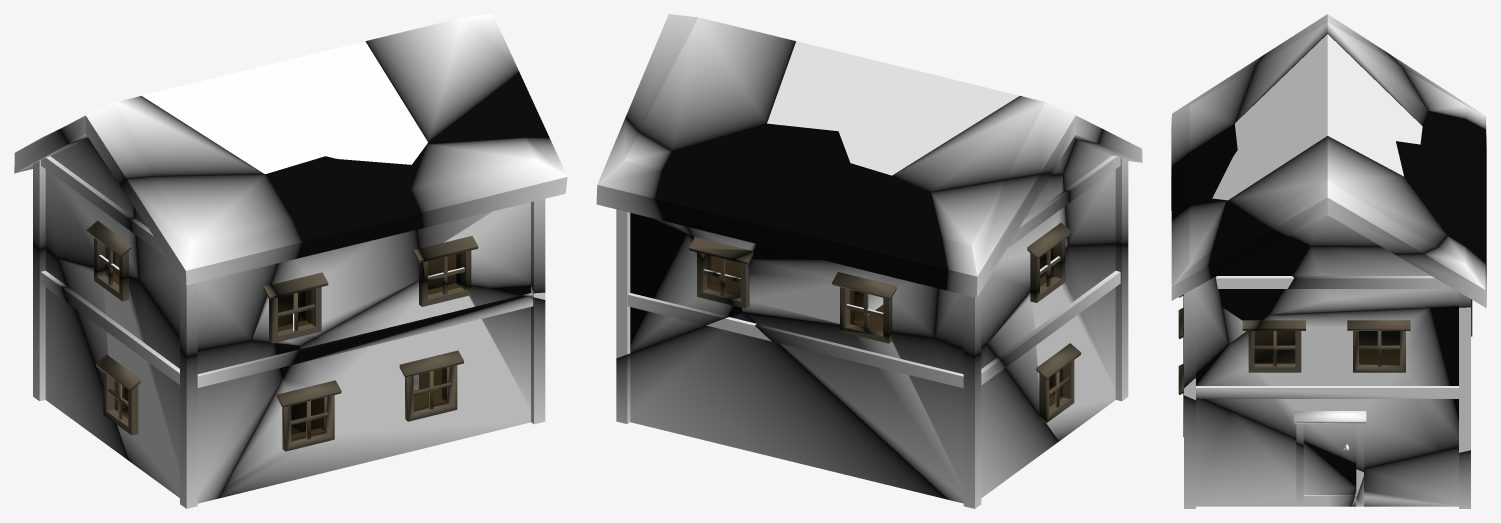
The model's file is Village_Apartment_Small_1_D.fbx.
The picture shows the model from 3 angles, left to right: view 1: azimuth 30°, elevation 25°; view 2: azimuth 150°, elevation 25°; view 3: azimuth 270°, elevation 25°; orthographic projection. The views are drawn at different scales.
Visible parts, largest first — view 1: Village_Apartment_Small_1_fracturepart10_4, Village_Apartment_Small_1_fracturepart13_2, Village_Apartment_Small_1_fracturepart14_6, Village_Apartment_Small_1_fracturepart11_4, Village_Apartment_Small_1_fracturepart3, Village_Apartment_Small_1_fracturepart8, Village_Apartment_Small_1_fracturepart18, Village_Apartment_Small_1_fracturepart5, Village_Apartment_Small_1_fracturepart15, Village_Apartment_Small_1_fracturepart2, Village_Apartment_Small_1_fracturepart17_3, Village_Apartment_Small_1_fracturepart4 (+23 smaller); view 2: Village_Apartment_Small_1_fracturepart1_3, Village_Apartment_Small_1_fracturepart6_2, Village_Apartment_Small_1_fracturepart17_3, Village_Apartment_Small_1_fracturepart18, Village_Apartment_Small_1_fracturepart2, Village_Apartment_Small_1_fracturepart19_2, Village_Apartment_Small_1_fracturepart14_6, Village_Apartment_Small_1_fracturepart15, Village_Apartment_Small_1_fracturepart5, Village_Apartment_Small_1_fracturepart12_2, Village_Apartment_Small_1_fracturepart8, Village_Apartment_Small_1_fracturepart13_2 (+20 smaller); view 3: Village_Apartment_Small_1_fracturepart12_2, Village_Apartment_Small_1_fracturepart18, Village_Apartment_Small_1_fracturepart10_4, Village_Apartment_Small_1_fracturepart7, Village_Apartment_Small_1_fracturepart5, Village_Apartment_Small_1_fracturepart8, Village_Apartment_Small_1_fracturepart4, Village_Apartment_Small_1_fracturepart15, Village_Apartment_Small_1_fracturepart3, Village_Apartment_Small_1_fracturepart1_3, Village_Apartment_Small_1_fracturepart19_2, Village_Apartment_Small_1_fracturepart6_2 (+21 smaller).
Part boxes in pixels (<box>): Village_Apartment_Small_1_fracturepart10_4: <box>218,280,530,498</box>; Village_Apartment_Small_1_fracturepart13_2: <box>120,174,302,350</box>; Village_Apartment_Small_1_fracturepart14_6: <box>58,258,304,503</box>; Village_Apartment_Small_1_fracturepart11_4: <box>251,156,423,345</box>; Village_Apartment_Small_1_fracturepart3: <box>411,137,567,288</box>; Village_Apartment_Small_1_fracturepart8: <box>260,41,427,164</box>; Village_Apartment_Small_1_fracturepart18: <box>365,14,519,141</box>; Village_Apartment_Small_1_fracturepart5: <box>142,67,325,173</box>; Village_Apartment_Small_1_fracturepart15: <box>60,96,263,184</box>; Village_Apartment_Small_1_fracturepart2: <box>14,128,138,279</box>; Village_Apartment_Small_1_fracturepart17_3: <box>45,248,129,460</box>; Village_Apartment_Small_1_fracturepart4: <box>427,72,549,144</box>; Village_Apartment_Small_1_fracturepart1_3: <box>630,312,947,499</box>; Village_Apartment_Small_1_fracturepart6_2: <box>730,163,947,337</box>; Village_Apartment_Small_1_fracturepart17_3: <box>746,291,1058,503</box>; Village_Apartment_Small_1_fracturepart18: <box>625,14,795,151</box>; Village_Apartment_Small_1_fracturepart2: <box>931,173,1068,349</box>; Village_Apartment_Small_1_fracturepart19_2: <box>655,123,850,250</box>; Village_Apartment_Small_1_fracturepart14_6: <box>987,244,1115,441</box>; Village_Apartment_Small_1_fracturepart15: <box>892,96,1102,192</box>; Village_Apartment_Small_1_fracturepart5: <box>838,67,1019,175</box>; Village_Apartment_Small_1_fracturepart12_2: <box>630,213,742,353</box>; Village_Apartment_Small_1_fracturepart8: <box>767,41,901,131</box>; Village_Apartment_Small_1_fracturepart13_2: <box>1063,129,1142,245</box>; Village_Apartment_Small_1_fracturepart12_2: <box>1196,306,1458,468</box>; Village_Apartment_Small_1_fracturepart18: <box>1228,136,1447,254</box>; Village_Apartment_Small_1_fracturepart10_4: <box>1196,331,1354,506</box>; Village_Apartment_Small_1_fracturepart7: <box>1269,236,1486,314</box>; Village_Apartment_Small_1_fracturepart5: <box>1235,34,1422,149</box>; Village_Apartment_Small_1_fracturepart8: <box>1212,87,1403,200</box>; Village_Apartment_Small_1_fracturepart4: <box>1208,200,1310,343</box>; Village_Apartment_Small_1_fracturepart15: <box>1235,14,1428,125</box>; Village_Apartment_Small_1_fracturepart3: <box>1171,198,1228,373</box>; Village_Apartment_Small_1_fracturepart1_3: <box>1351,331,1458,506</box>; Village_Apartment_Small_1_fracturepart19_2: <box>1396,141,1486,274</box>; Village_Apartment_Small_1_fracturepart6_2: <box>1420,111,1486,243</box>.
Bounding box in the file's own units: 1215 × 997 × 873.
